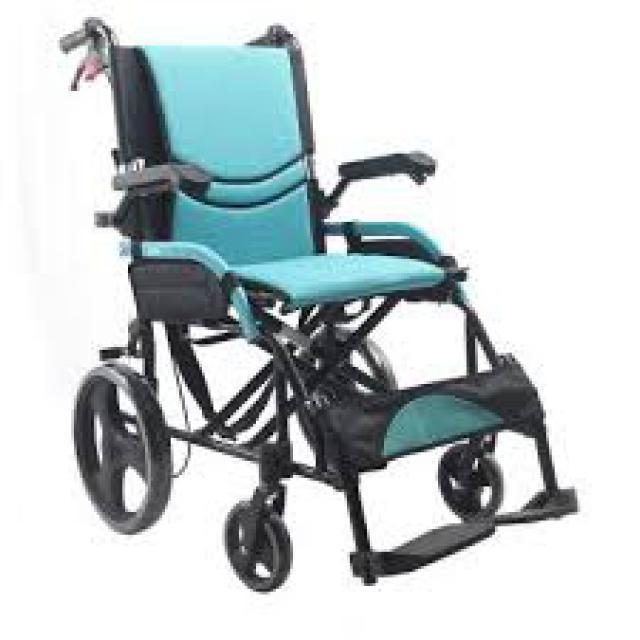wheelchair: (34, 8, 597, 614)
